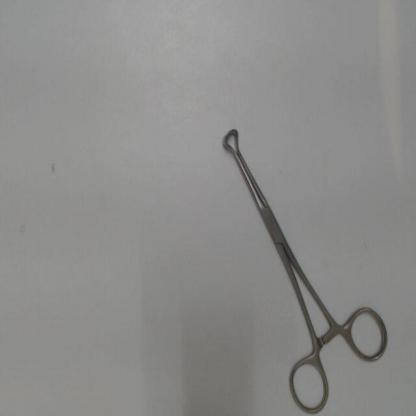Babcock Tissue Forceps: (219, 122, 392, 413)
